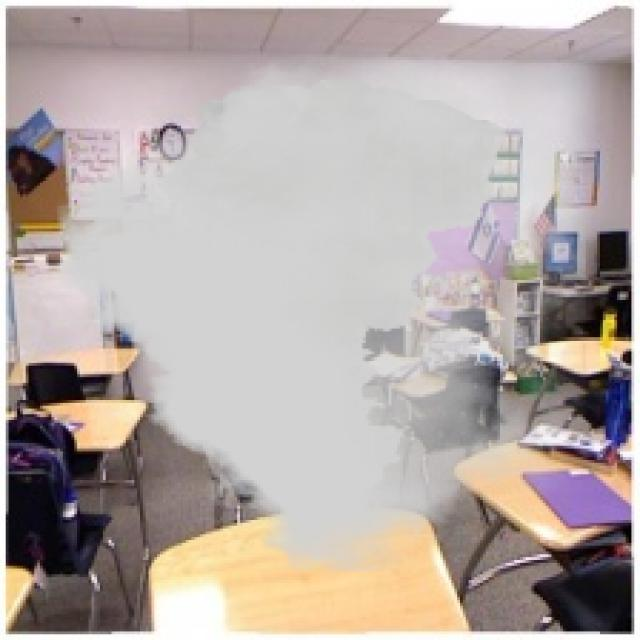smoke: (57, 54, 586, 572)
